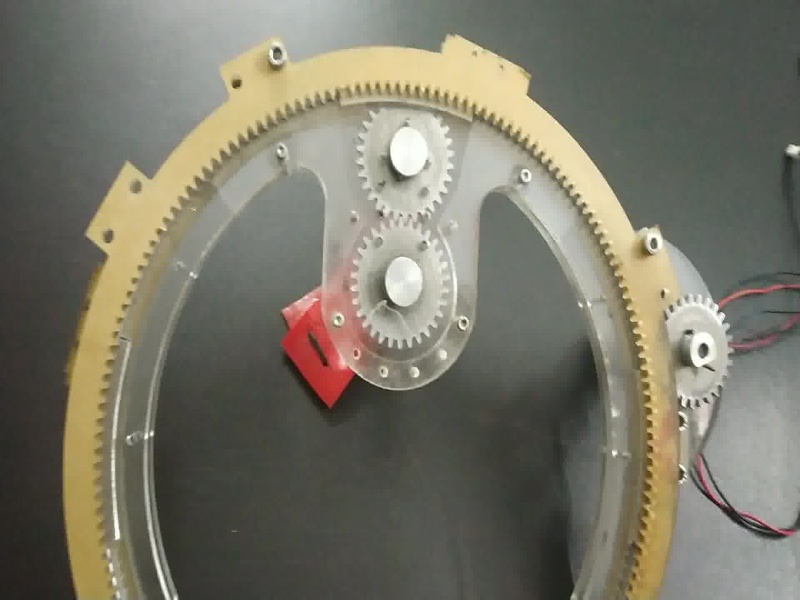stirrer: (320, 101, 483, 393)
